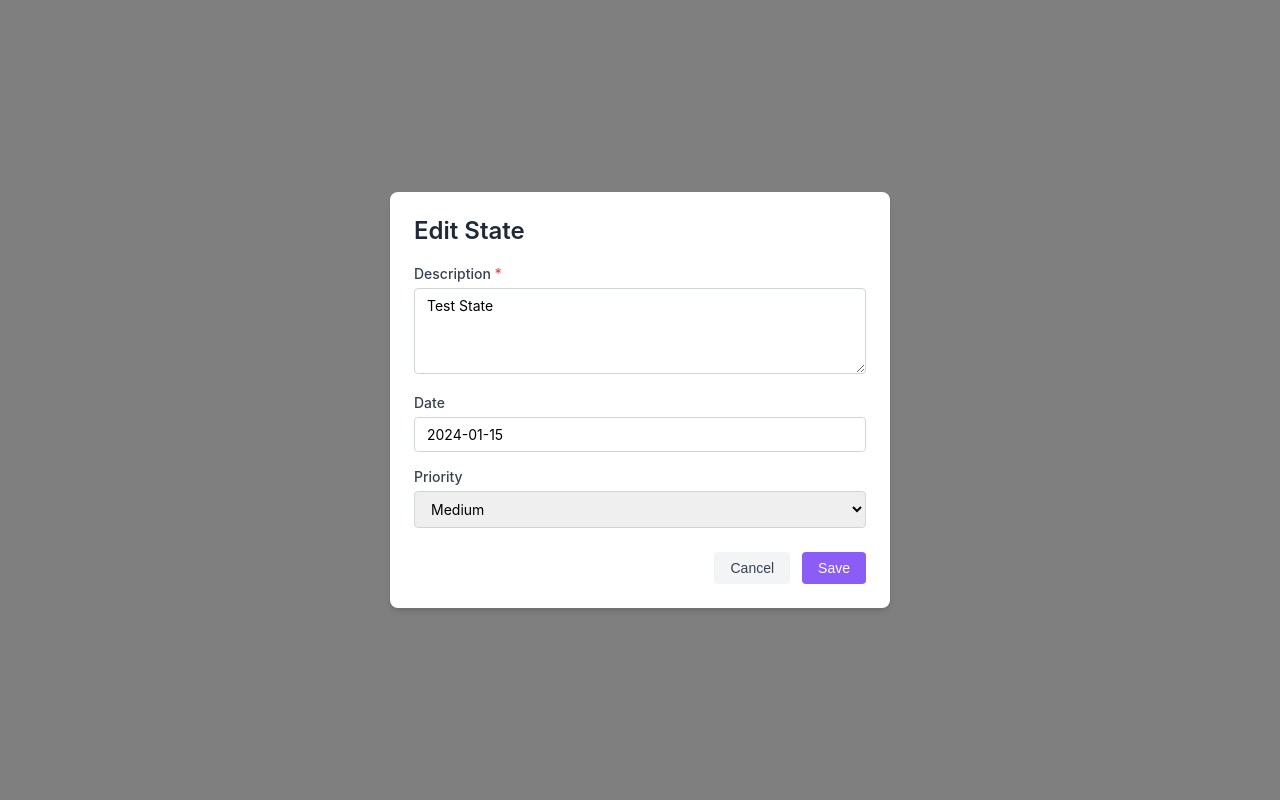
Test: StateEditorModal Component › validates date format
// Enter invalid date
Replace the text in the field with test id "state-date-input" with "invalid-date": (640, 434) 414,417 -> 866,452
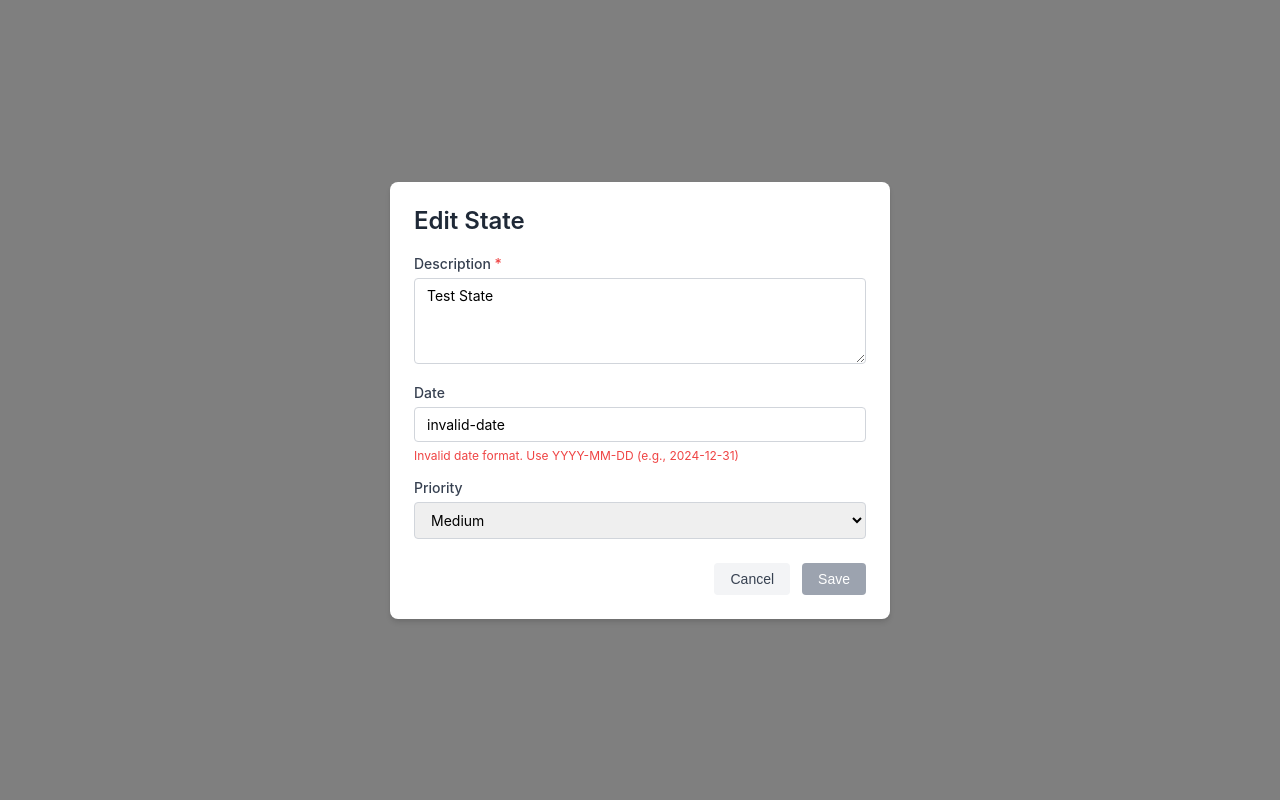
Expected: the text with test id "date-error" shows "Invalid date format", 414,448 -> 739,462
Expected: the button with test id "save-button" is disabled, 802,562 -> 866,594
// Enter valid date
Replace the text in the field with test id "state-date-input" with "2024-03-15": (640, 424) 414,406 -> 866,442
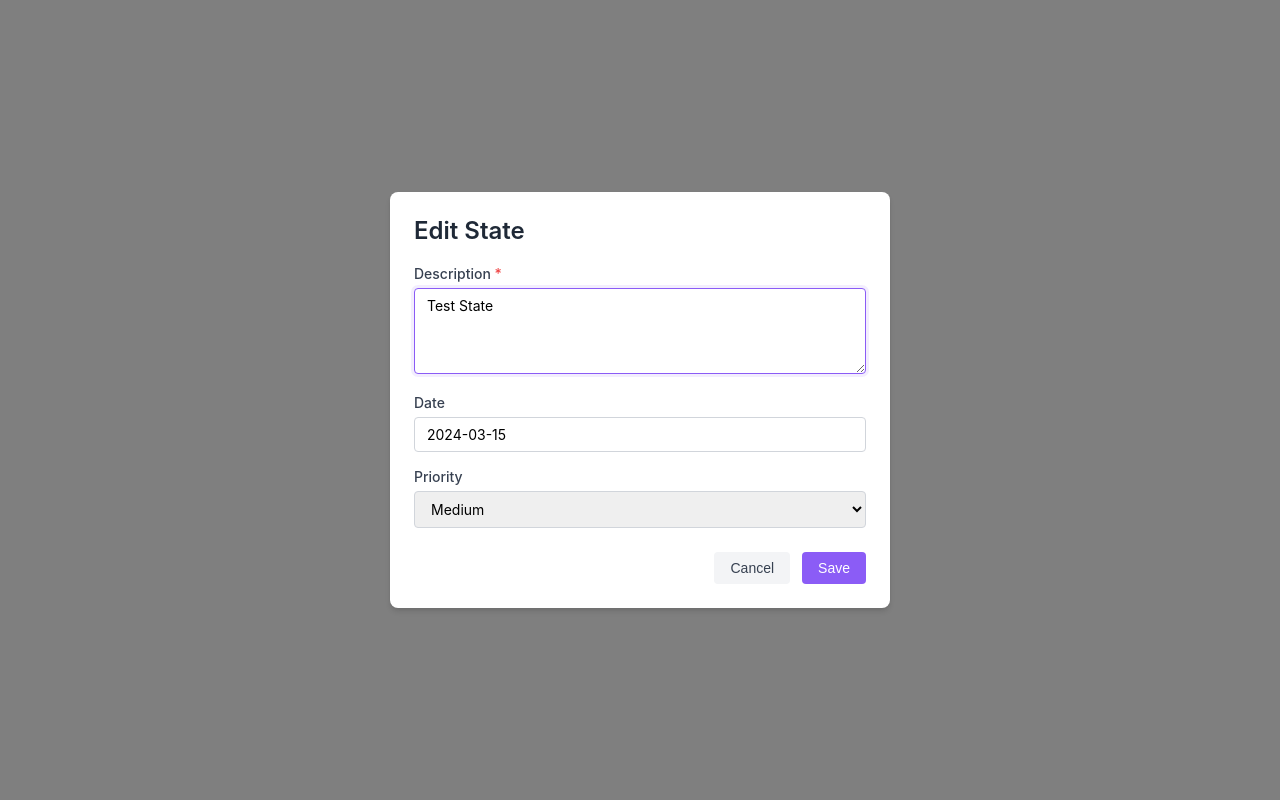
Expected: the text with test id "date-error" is gone
Expected: the button with test id "save-button" is enabled, 802,552 -> 866,584
